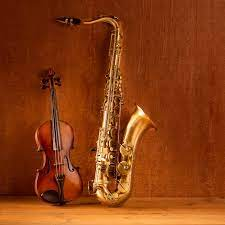Saxophone: (55, 2, 159, 205)
Violin: (24, 56, 95, 209)
